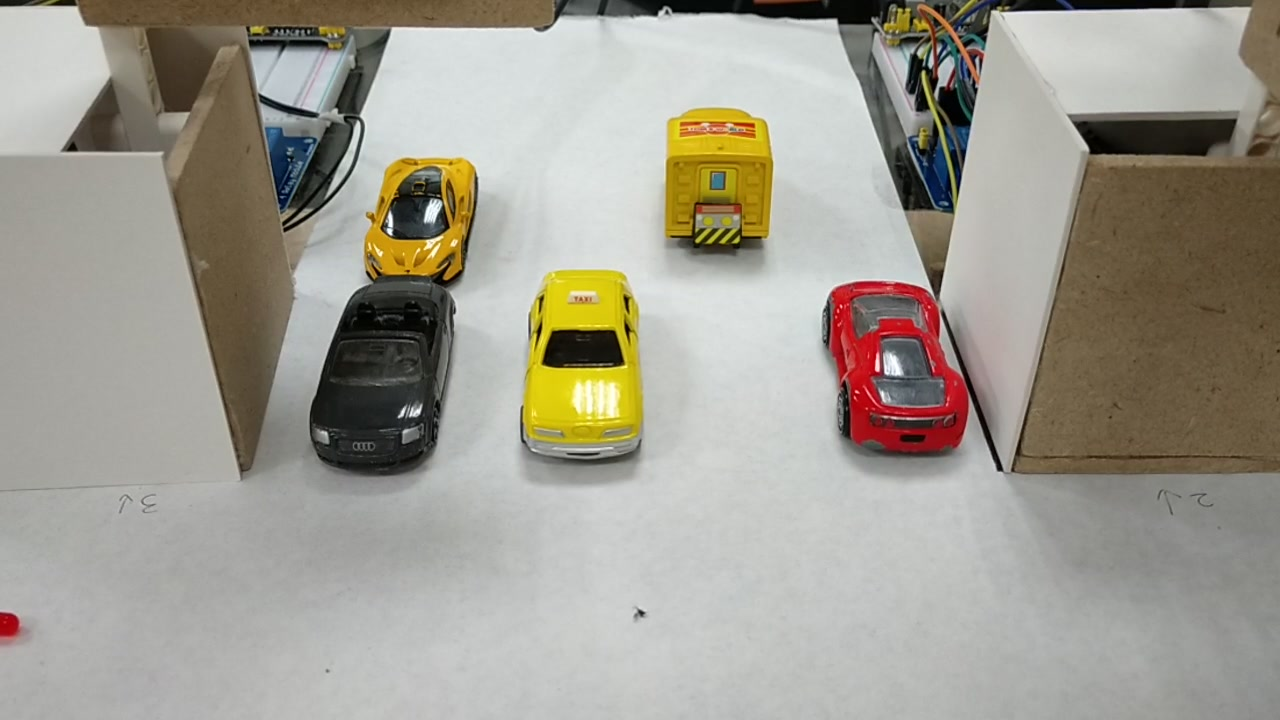car: (815, 275, 971, 459), (309, 278, 444, 473), (522, 261, 637, 464), (359, 159, 480, 282)
